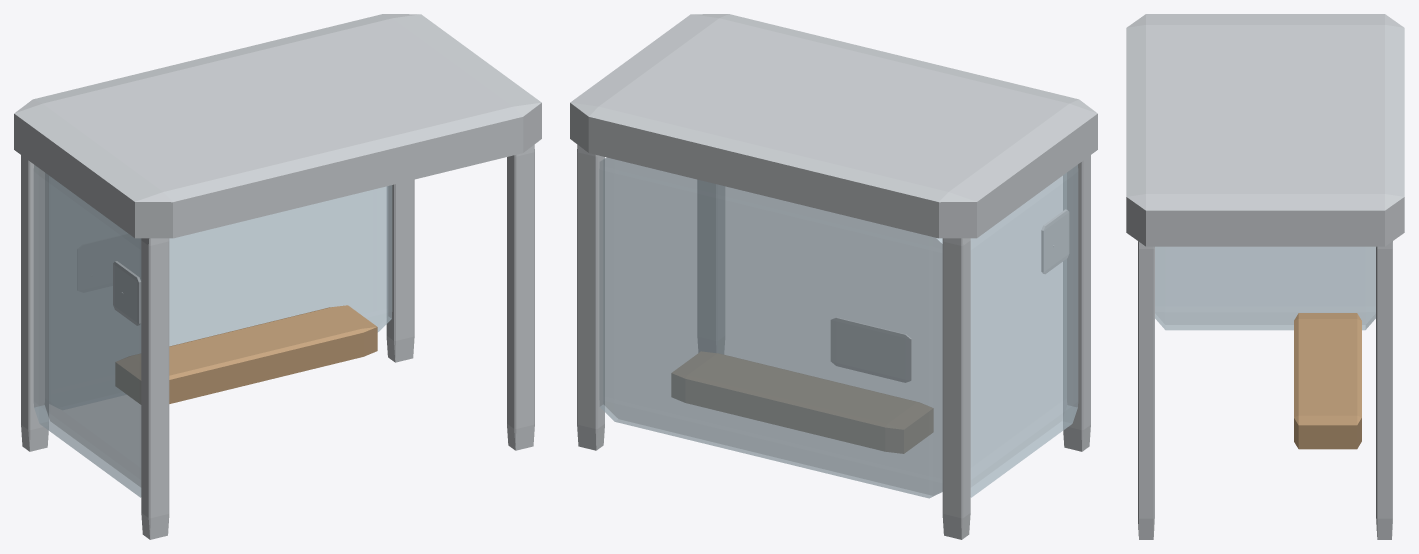
File: b01_cantilever_transit_shelter.glb
3 views of the same model, side by side, from view 1: azimuth 30°, elevation 25°; view 2: azimuth 150°, elevation 25°; view 3: azimuth 270°, elevation 25° (orthographic).
Visible parts, largest first — view 1: b01_cantilever_transit_shelter; view 2: b01_cantilever_transit_shelter; view 3: b01_cantilever_transit_shelter.
Part boxes in pixels (x1,y1,x2,y2): b01_cantilever_transit_shelter: (14, 14, 541, 539); b01_cantilever_transit_shelter: (570, 14, 1097, 539); b01_cantilever_transit_shelter: (1126, 14, 1404, 539).
Size of the model in its own units: 3.05 by 2.44 by 1.82.
